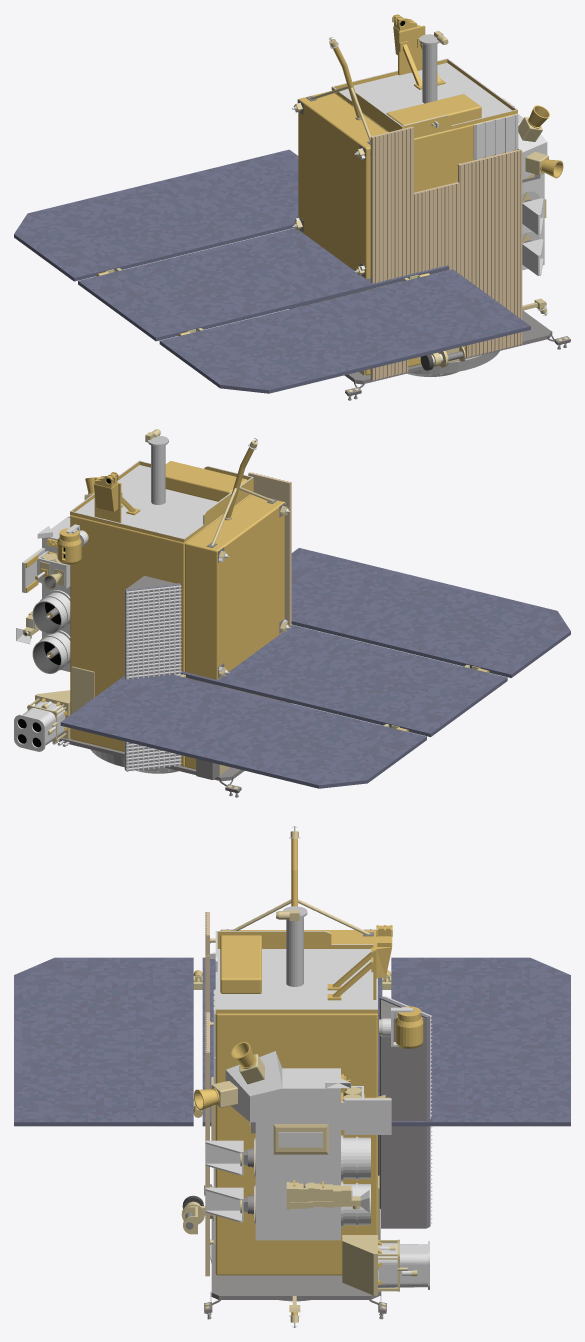
The model's file is lro.glb.
3 renders of one model, top to bottom at view 1: azimuth 30°, elevation 25°; view 2: azimuth 150°, elevation 25°; view 3: azimuth 270°, elevation 25°, orthographic. The views are drawn at different scales.
Visible parts, largest first — view 1: Layer_4, Layer_0; view 2: Layer_4, Layer_0; view 3: Layer_0, Layer_4.
Boxes of the visible parts, x1,y1,x2,y2 form: Layer_4: (14,149,530,393); Layer_0: (290,14,570,400); Layer_4: (60,548,570,788); Layer_0: (14,429,291,797); Layer_0: (181,826,432,1327); Layer_4: (14,957,570,1126).
Bounding box in the file's own units: 33.28 × 26.29 × 32.26.
